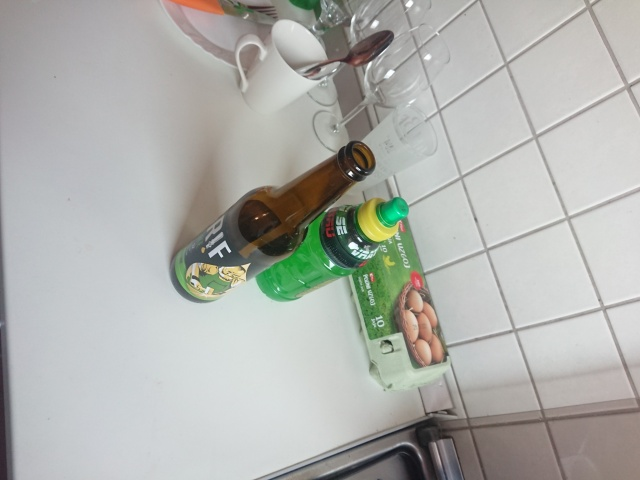Vindi Iso Sport Lemon-Grapefruit 500mL: (252, 194, 411, 305)
